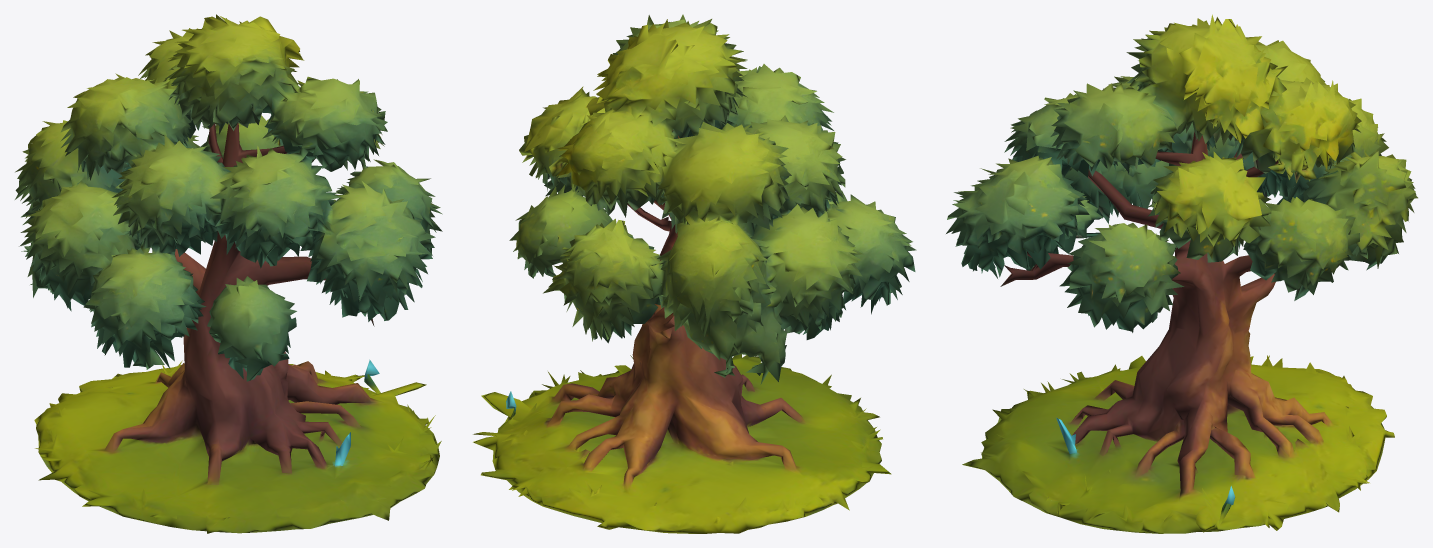
The model's file is windtree.glb.
3 renders of one model, left to right at view 1: azimuth 30°, elevation 25°; view 2: azimuth 150°, elevation 25°; view 3: azimuth 270°, elevation 25°, orthographic.
Visible parts, largest first — view 1: tripo_node_8b69be0d-ac03-4679-99aa-7f4bc6edc6d3; view 2: tripo_node_8b69be0d-ac03-4679-99aa-7f4bc6edc6d3; view 3: tripo_node_8b69be0d-ac03-4679-99aa-7f4bc6edc6d3.
Part boxes in pixels (x1=…): tripo_node_8b69be0d-ac03-4679-99aa-7f4bc6edc6d3: x1=15, y1=14, x2=442, y2=533; tripo_node_8b69be0d-ac03-4679-99aa-7f4bc6edc6d3: x1=473, y1=14, x2=916, y2=533; tripo_node_8b69be0d-ac03-4679-99aa-7f4bc6edc6d3: x1=946, y1=14, x2=1417, y2=533.
Bounding box in the file's own units: 0.9394 × 1 × 0.9881.
1 material, 1 textured.
